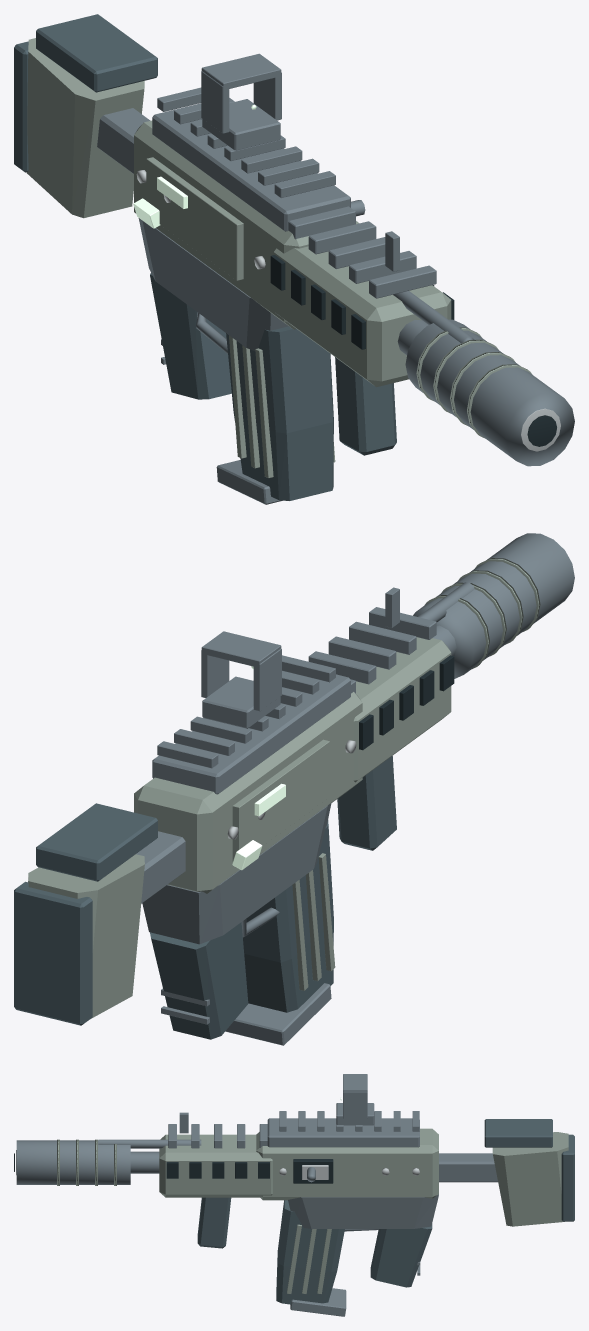
The model's file is burrower.glb.
The picture shows the model from 3 angles, top to bottom: view 1: azimuth 30°, elevation 25°; view 2: azimuth 150°, elevation 25°; view 3: azimuth 270°, elevation 25°; orthographic projection. The views are drawn at different scales.
Parts seen in each view (by area): view 1: stock_23, magazine_61, suppressor_53, handguard_28, receiver_1, receiver_lower_2, receiver_top_cover_3, cheek_rest_25, pistol_grip_17, receiver_side_plate_4, foregrip_44, sight_base_69 (+22 smaller); view 2: receiver_1, stock_pad_24, suppressor_53, receiver_lower_2, stock_23, magazine_61, pistol_grip_17, handguard_28, receiver_top_cover_3, cheek_rest_25, receiver_side_plate_4, foregrip_44 (+18 smaller); view 3: receiver_1, handguard_28, stock_23, suppressor_53, receiver_lower_2, magazine_61, receiver_top_cover_3, pistol_grip_17, cheek_rest_25, stock_beam_22, foregrip_44, stock_pad_24 (+10 smaller).
Part boxes in pixels (x1,y1,x2,y2): stock_23: [26, 38, 144, 218]; magazine_61: [226, 326, 333, 500]; suppressor_53: [405, 319, 574, 466]; handguard_28: [273, 246, 451, 387]; receiver_1: [134, 120, 359, 329]; receiver_lower_2: [138, 218, 288, 350]; receiver_top_cover_3: [152, 103, 350, 231]; cheek_rest_25: [36, 14, 157, 92]; pistol_grip_17: [150, 273, 231, 399]; receiver_side_plate_4: [146, 157, 243, 280]; foregrip_44: [335, 357, 396, 455]; sight_base_69: [202, 99, 280, 150]; receiver_1: [134, 692, 362, 893]; stock_pad_24: [14, 881, 92, 1025]; suppressor_53: [413, 533, 574, 678]; receiver_lower_2: [142, 803, 331, 944]; stock_23: [28, 854, 144, 1018]; magazine_61: [243, 820, 333, 1012]; pistol_grip_17: [150, 922, 248, 1039]; handguard_28: [353, 637, 451, 782]; receiver_top_cover_3: [152, 671, 350, 794]; cheek_rest_25: [36, 803, 157, 881]; receiver_side_plate_4: [232, 739, 329, 861]; foregrip_44: [337, 756, 396, 850]; receiver_1: [256, 1128, 438, 1200]; handguard_28: [159, 1134, 272, 1197]; stock_23: [492, 1132, 568, 1226]; suppressor_53: [16, 1140, 130, 1184]; receiver_lower_2: [288, 1194, 438, 1228]; magazine_61: [276, 1200, 344, 1304]; receiver_top_cover_3: [267, 1118, 419, 1147]; pistol_grip_17: [370, 1223, 432, 1287]; cheek_rest_25: [484, 1119, 552, 1147]; stock_beam_22: [439, 1153, 497, 1182]; foregrip_44: [197, 1197, 231, 1248]; stock_pad_24: [561, 1134, 574, 1221].
Bounding box in the file's own units: 0.2365 × 0.6552 × 1.47.
